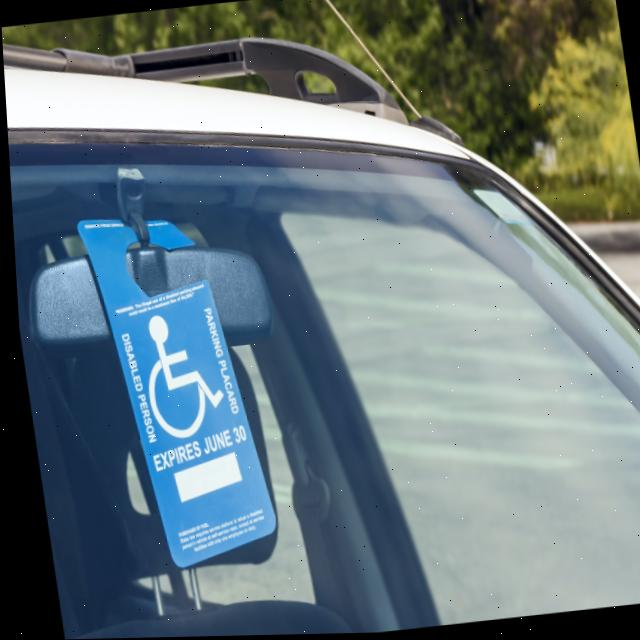symbol_of_access: (124, 304, 225, 446)
